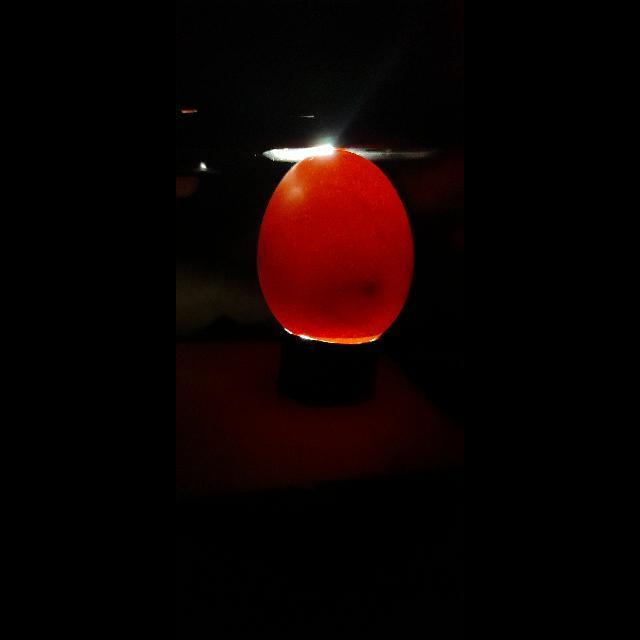Fertile: (258, 149, 418, 347)
